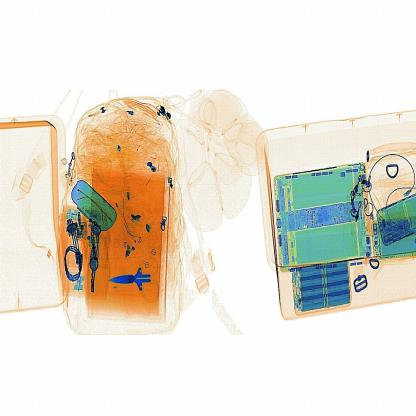gun: (107, 260, 165, 297)
